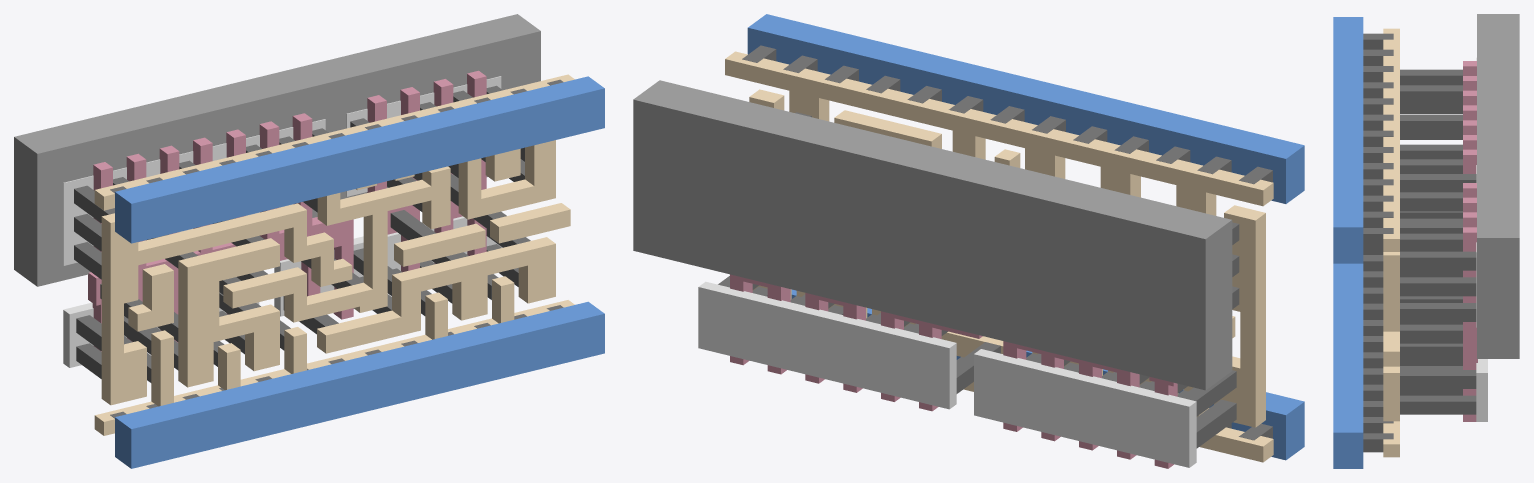
File: sky130_fd_sc_hd__o21ba_4.gds.gltf
3 views of the same model, side by side, from view 1: azimuth 30°, elevation 25°; view 2: azimuth 150°, elevation 25°; view 3: azimuth 270°, elevation 25° (orthographic). The views are drawn at different scales.
Visible parts, largest first — view 1: sky130_fd_sc_hd__o21ba_4_li1, sky130_fd_sc_hd__o21ba_4_met1, sky130_fd_sc_hd__o21ba_4_nwell, sky130_fd_sc_hd__o21ba_4_licon, sky130_fd_sc_hd__o21ba_4_poly, sky130_fd_sc_hd__o21ba_4_diff, sky130_fd_sc_hd__o21ba_4_mcon; view 2: sky130_fd_sc_hd__o21ba_4_nwell, sky130_fd_sc_hd__o21ba_4_diff, sky130_fd_sc_hd__o21ba_4_li1, sky130_fd_sc_hd__o21ba_4_met1, sky130_fd_sc_hd__o21ba_4_poly, sky130_fd_sc_hd__o21ba_4_mcon, sky130_fd_sc_hd__o21ba_4_licon; view 3: sky130_fd_sc_hd__o21ba_4_licon, sky130_fd_sc_hd__o21ba_4_nwell, sky130_fd_sc_hd__o21ba_4_met1, sky130_fd_sc_hd__o21ba_4_mcon, sky130_fd_sc_hd__o21ba_4_li1, sky130_fd_sc_hd__o21ba_4_poly, sky130_fd_sc_hd__o21ba_4_diff.
Part boxes in pixels (<box>): sky130_fd_sc_hd__o21ba_4_li1: <box>94,74,574,435</box>; sky130_fd_sc_hd__o21ba_4_met1: <box>115,76,604,468</box>; sky130_fd_sc_hd__o21ba_4_nwell: <box>14,14,540,286</box>; sky130_fd_sc_hd__o21ba_4_licon: <box>74,85,530,382</box>; sky130_fd_sc_hd__o21ba_4_poly: <box>88,70,486,351</box>; sky130_fd_sc_hd__o21ba_4_diff: <box>63,76,501,367</box>; sky130_fd_sc_hd__o21ba_4_mcon: <box>110,79,563,418</box>; sky130_fd_sc_hd__o21ba_4_nwell: <box>633,80,1232,390</box>; sky130_fd_sc_hd__o21ba_4_diff: <box>698,281,1196,467</box>; sky130_fd_sc_hd__o21ba_4_li1: <box>725,51,1273,462</box>; sky130_fd_sc_hd__o21ba_4_met1: <box>747,14,1304,460</box>; sky130_fd_sc_hd__o21ba_4_poly: <box>730,274,1177,468</box>; sky130_fd_sc_hd__o21ba_4_mcon: <box>742,45,1272,440</box>; sky130_fd_sc_hd__o21ba_4_licon: <box>718,112,1239,448</box>; sky130_fd_sc_hd__o21ba_4_licon: <box>1400,69,1476,414</box>; sky130_fd_sc_hd__o21ba_4_nwell: <box>1477,14,1519,358</box>; sky130_fd_sc_hd__o21ba_4_met1: <box>1333,17,1363,468</box>; sky130_fd_sc_hd__o21ba_4_mcon: <box>1363,33,1393,452</box>; sky130_fd_sc_hd__o21ba_4_li1: <box>1383,28,1399,457</box>; sky130_fd_sc_hd__o21ba_4_poly: <box>1463,61,1477,421</box>; sky130_fd_sc_hd__o21ba_4_diff: <box>1476,57,1487,421</box>.
Size of the model in its own units: 6.36 by 3.2 by 2.24.
